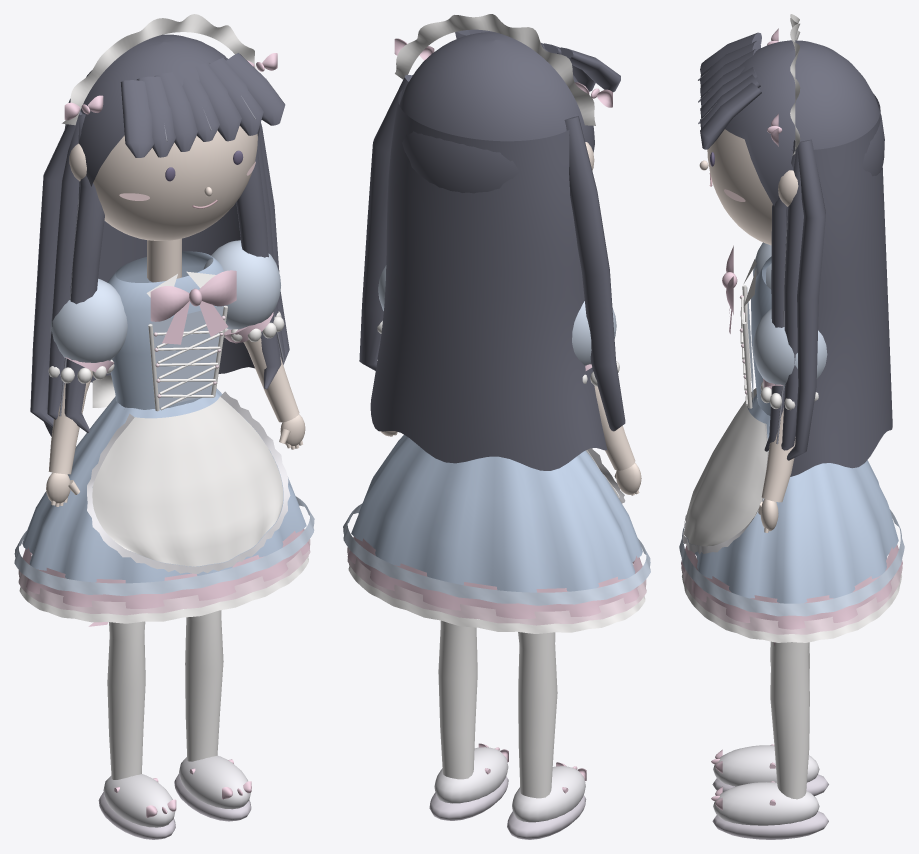
File: maid_black_longhair.glb
3 renders of one model, left to right at view 1: azimuth 30°, elevation 25°; view 2: azimuth 150°, elevation 25°; view 3: azimuth 270°, elevation 25°, orthographic. The views are drawn at different scales.
Parts seen in each view (by area): view 1: Black hair maid; view 2: Black hair maid; view 3: Black hair maid.
Boxes of the visible parts, box(x1,y1,x2,y2) form: Black hair maid: box(14, 14, 314, 839); Black hair maid: box(343, 14, 650, 839); Black hair maid: box(679, 14, 904, 839).
Size of the model in its own units: 0.486 by 1.31 by 0.3385.
